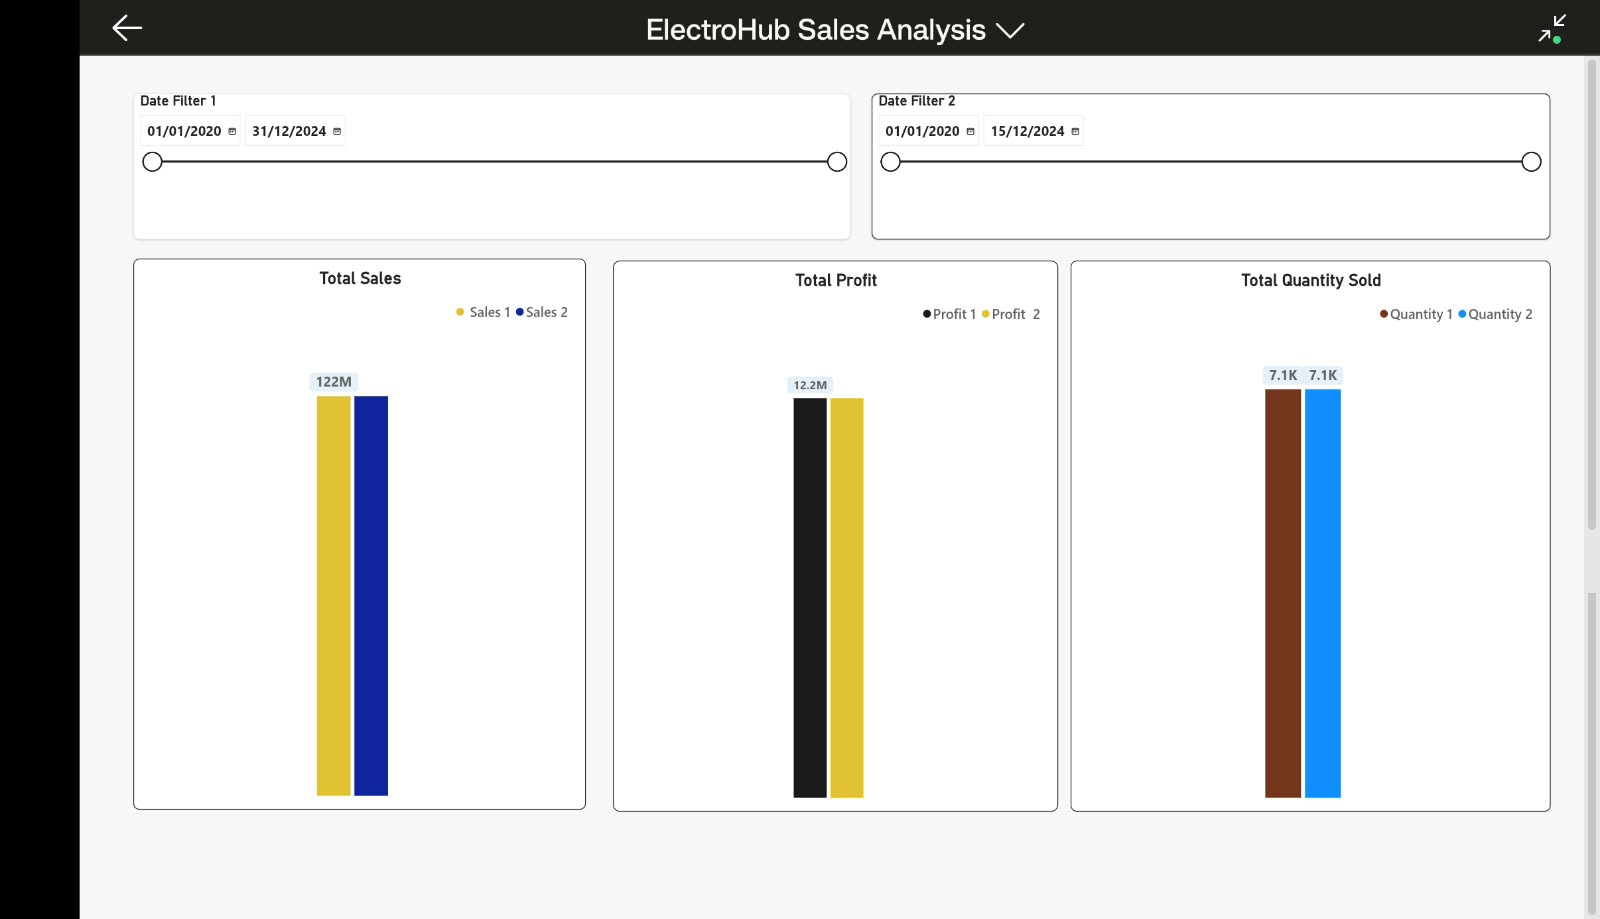

The page's visual inventory and layout, read from the dashboard file:
{"tool":"powerbi","page":{"name":"Comparison Sales/Profi/Quantiy","canvas":[1920,1080],"ordinal":2},"visuals":[{"type":"slicer","fields":{"Values":["Date Table 1.Date"]},"box":[68,49.2,921.4,187.6],"z":0},{"type":"slicer","fields":{"Values":["Date Table 2.Date"]},"box":[1017.5,49.2,872.1,187.6],"z":1000},{"type":"clusteredColumnChart","title":"Total Sales","fields":{"Y":["Sum(Fact Table.Net Sales)","Date Table 1.Sum Of Net Sales"]},"box":[68,260.2,581.4,771.3],"z":2000},{"type":"clusteredColumnChart","title":"Total Profit","fields":{"Y":["Sum(Fact Table.Profit)","Measures  Table.Total Profit"]},"box":[684.6,262.6,572.1,771.3],"z":3000},{"type":"clusteredColumnChart","title":"Total Quantity Sold","fields":{"Y":["Sum(Fact Table.Units Sold)","Measures  Table.Quantity Sold"]},"box":[1273.1,262.6,616.6,771.3],"z":4000}]}

Visuals, with their boxes on the page's 1920x1080 design canvas (x1, y1, x2, y2). These are canvas units, not pixel positions in the 1600x919 screenshot, which may show the page scaled, cropped or inside an application window:
slicer - Date Table 1.Date: 68:49:989:237
slicer - Date Table 2.Date: 1018:49:1890:237
"Total Sales" clusteredColumnChart: 68:260:649:1032
"Total Profit" clusteredColumnChart: 685:263:1257:1034
"Total Quantity Sold" clusteredColumnChart: 1273:263:1890:1034
